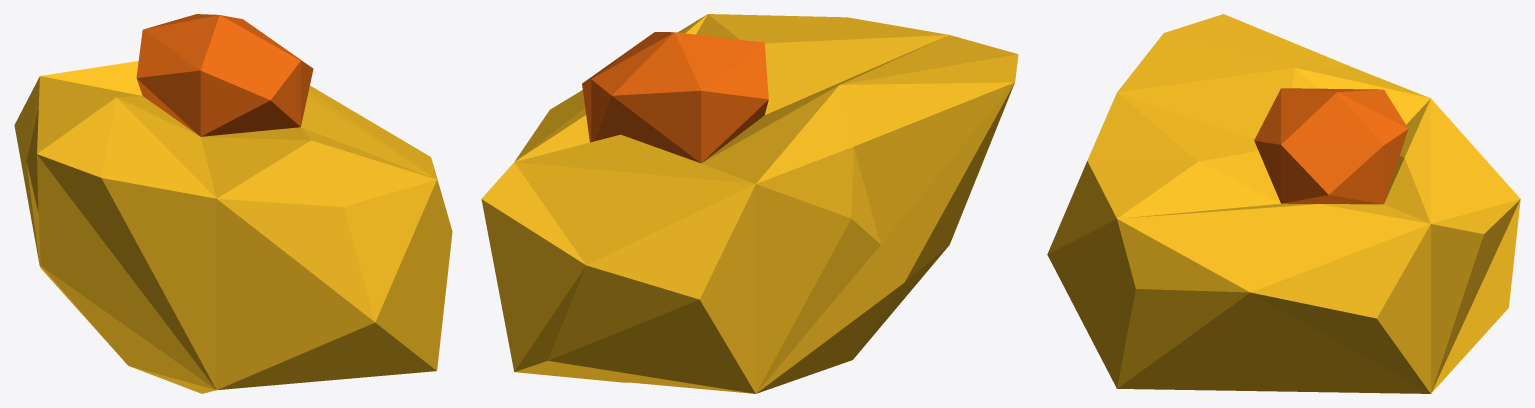
Rendered from cas9.obj.
3 views of the same model, side by side, from view 1: azimuth 30°, elevation 25°; view 2: azimuth 150°, elevation 25°; view 3: azimuth 270°, elevation 25° (orthographic). The views are drawn at different scales.
Visible parts, largest first — view 1: Mesh1 Model; view 2: Mesh1 Model; view 3: Mesh1 Model.
Boxes of the visible parts, left/top/right/bottom form: Mesh1 Model: left=14, top=14, right=452, bottom=393; Mesh1 Model: left=481, top=14, right=1018, bottom=393; Mesh1 Model: left=1047, top=14, right=1520, bottom=393.
Bounding box in the file's own units: 272 × 207 × 307.
